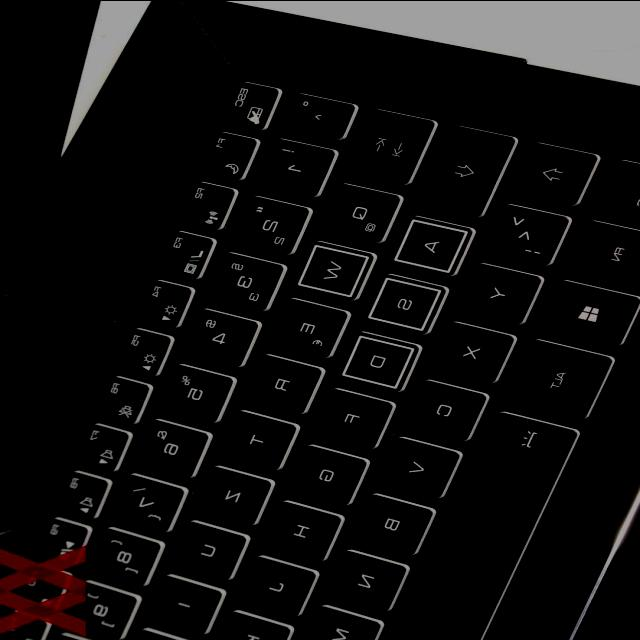1: (247, 135, 337, 196)
2: (223, 192, 312, 254)
3: (198, 248, 287, 310)
4: (177, 305, 261, 367)
5: (155, 360, 237, 423)
6: (128, 413, 213, 477)
7: (101, 469, 189, 531)
8: (80, 524, 164, 587)
9: (58, 577, 142, 640)
a: (386, 214, 470, 274)
alt-left: (497, 334, 615, 419)
b: (345, 490, 435, 556)
c: (399, 376, 489, 440)
caret: (272, 90, 354, 138)
d: (334, 330, 419, 390)
e: (263, 294, 351, 358)
f: (308, 384, 394, 448)
g: (283, 440, 369, 505)
h: (256, 497, 342, 561)
i: (137, 571, 225, 638)
j: (231, 552, 316, 616)
k: (221, 609, 297, 640)
keyboard: (0, 71, 640, 640)
less: (479, 200, 571, 264)
m: (297, 602, 383, 640)
n: (319, 548, 409, 611)
q: (314, 180, 404, 243)
r: (240, 350, 324, 414)
s: (360, 272, 446, 332)
shift-left: (504, 139, 599, 203)
shift-lock: (413, 121, 517, 217)
space: (375, 401, 584, 640)
strg-left: (588, 155, 640, 223)
t: (215, 406, 299, 469)
tab: (341, 105, 438, 183)
u: (166, 517, 250, 581)
v: (372, 433, 461, 498)
w: (292, 240, 372, 298)
x: (424, 318, 516, 382)
y: (450, 259, 544, 324)
z: (190, 463, 274, 525)
